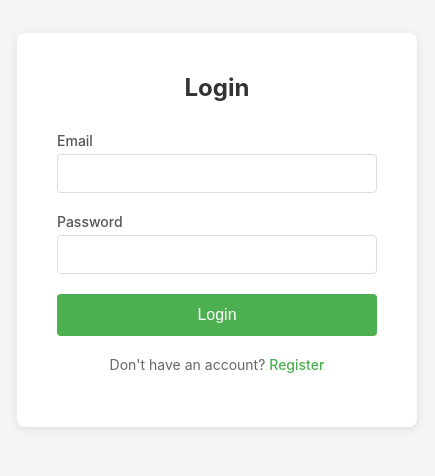
Login Page › should show error message on login failure
In the field labelled "Email": [217, 174] box [57,154,377,193], type "test@test.com"
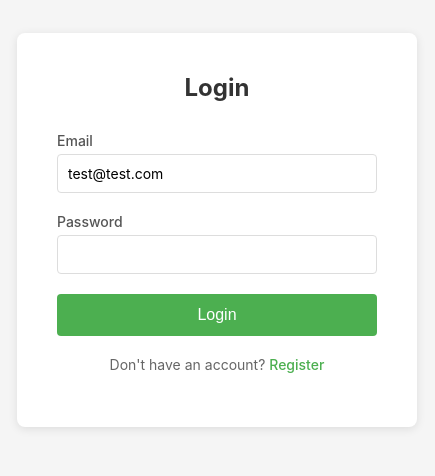
In the password field labelled "Password": [217, 254] box [57,235,377,274], type "wrong"
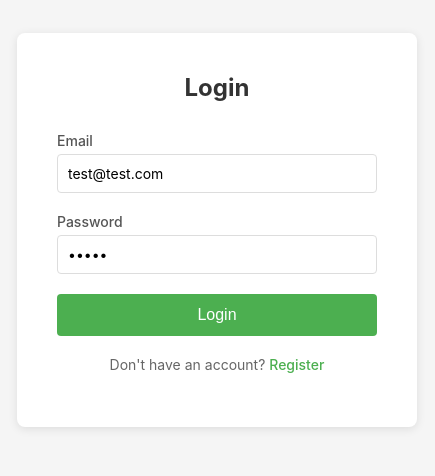
Click the button "Login": [217, 315] box [57,294,377,336]
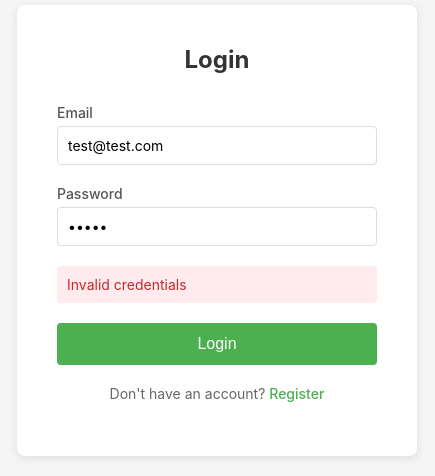
Now the text "Invalid credentials" is shown, box [57,266,377,302]
